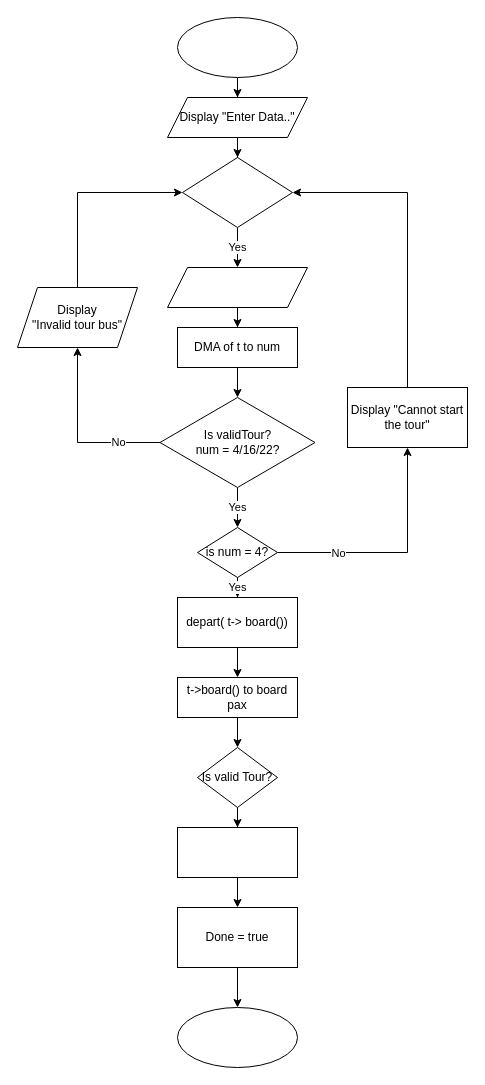
This 485x1085 diagram has some shape labels left out. The shapes that lost their labels are listed below. From the top down, each one's box as (x1, y1, x2, y2) in pixels, then its label:
(176, 16, 298, 78): Start
(182, 156, 292, 228): while (!done)
(166, 266, 308, 308): Read Data to num
(176, 826, 298, 878): startTheTour()
(176, 1006, 298, 1068): End
